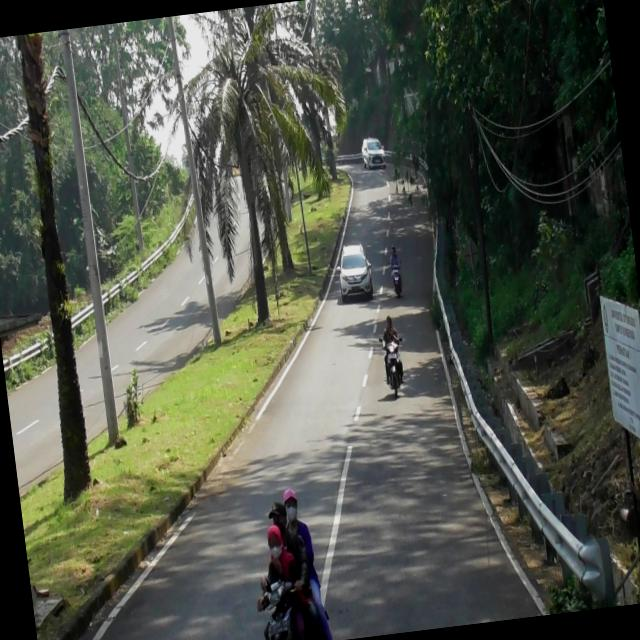motorcycle: (252, 572, 332, 640), (382, 340, 408, 401), (390, 263, 404, 298)
person: (277, 485, 334, 640), (247, 499, 311, 602), (258, 522, 300, 596), (378, 312, 401, 350), (388, 246, 401, 268)
rider_region: (239, 483, 332, 640), (378, 313, 407, 402), (388, 244, 404, 298)
